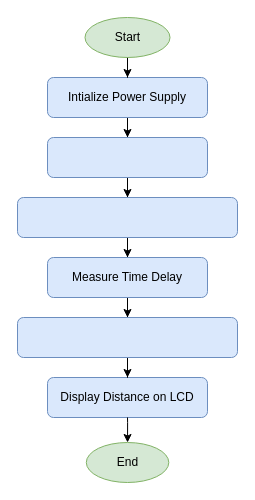
Image size: 255x500. Some labels were removed from this diagram. The shapes that lost their labels are listed below. From the top down, each one's centre as x and y in pixels, then its label:
At (x=127, y=157): "Initialize Microcontroller".
At (x=127, y=217): "Get Data from the Ultrasonic Sensor".
At (x=127, y=337): "Calculate Distance by Formula d = (v × t) / 2".
